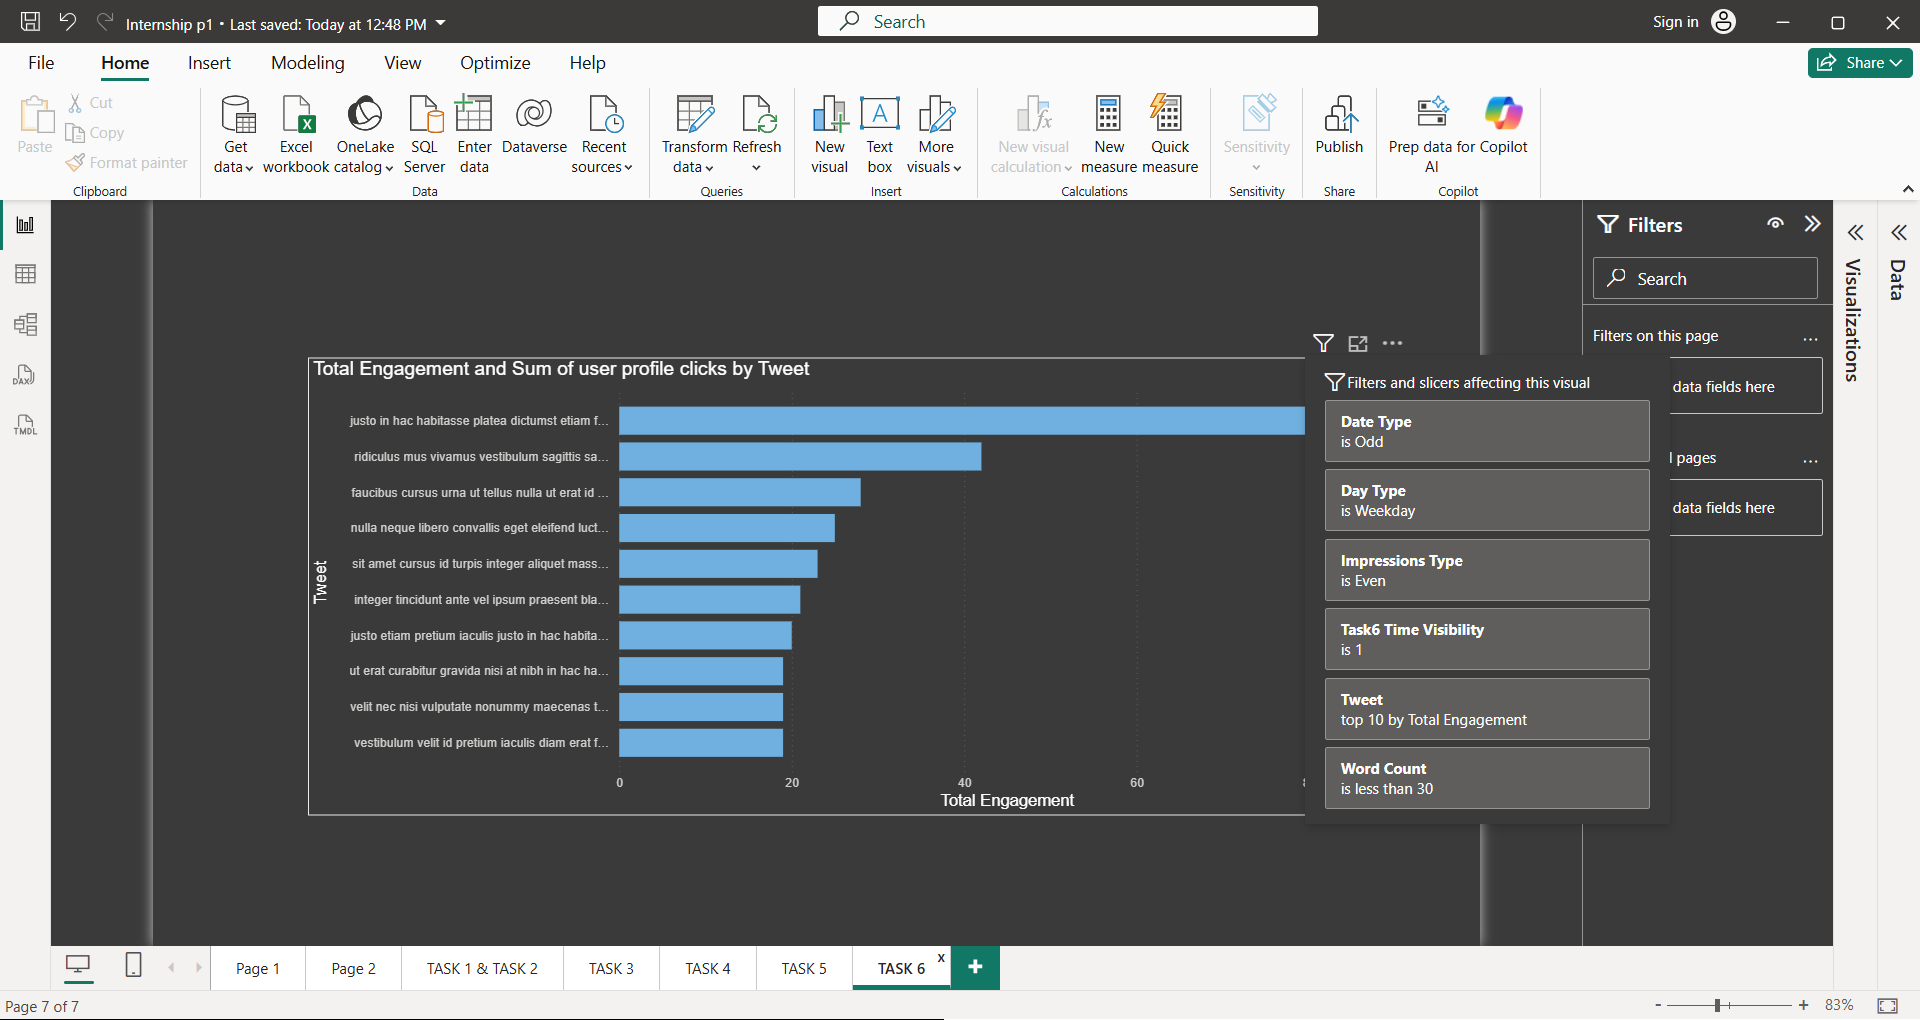

What the dashboard file says about the page in this screenshot:
{"tool":"powerbi","page":{"name":"TASK 6","canvas":[1280,720],"ordinal":6},"visuals":[{"type":"clusteredBarChart","fields":{"Category":["SocialMedia (1).Tweet"],"Y":["SocialMedia (1).Total Engagement"]},"box":[149.6,152,1061.7,441.6],"z":1}]}

Visuals, with their boxes on the page's 1280x720 design canvas (x1, y1, x2, y2). These are canvas units, not pixel positions in the 1920x1020 screenshot, which may show the page scaled, cropped or inside an application window:
clusteredBarChart - SocialMedia (1).Tweet x SocialMedia (1).Total Engagement: {"x1": 150, "y1": 152, "x2": 1211, "y2": 594}
